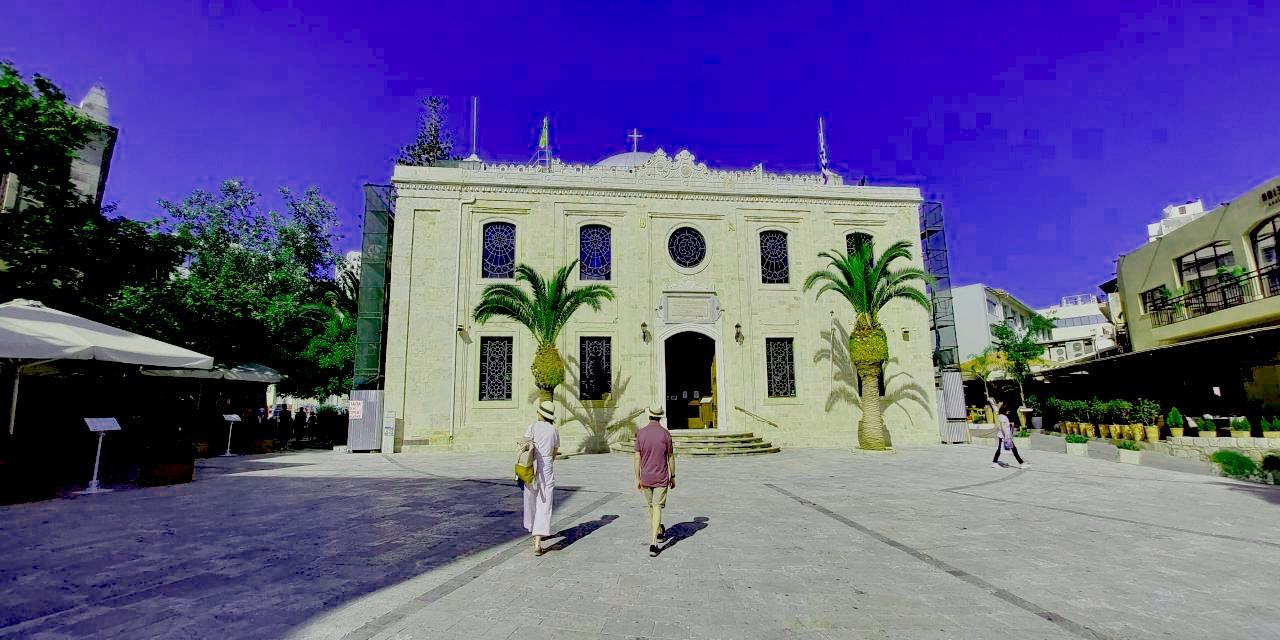Agios Titos: (381, 165, 941, 453)
